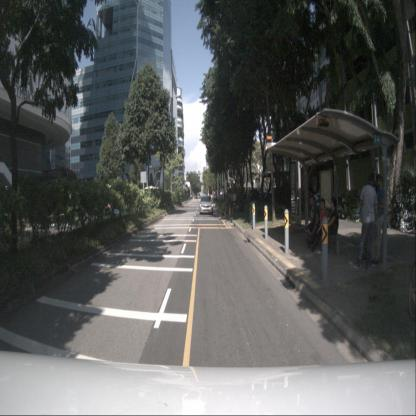cone: (228, 204, 232, 215)
